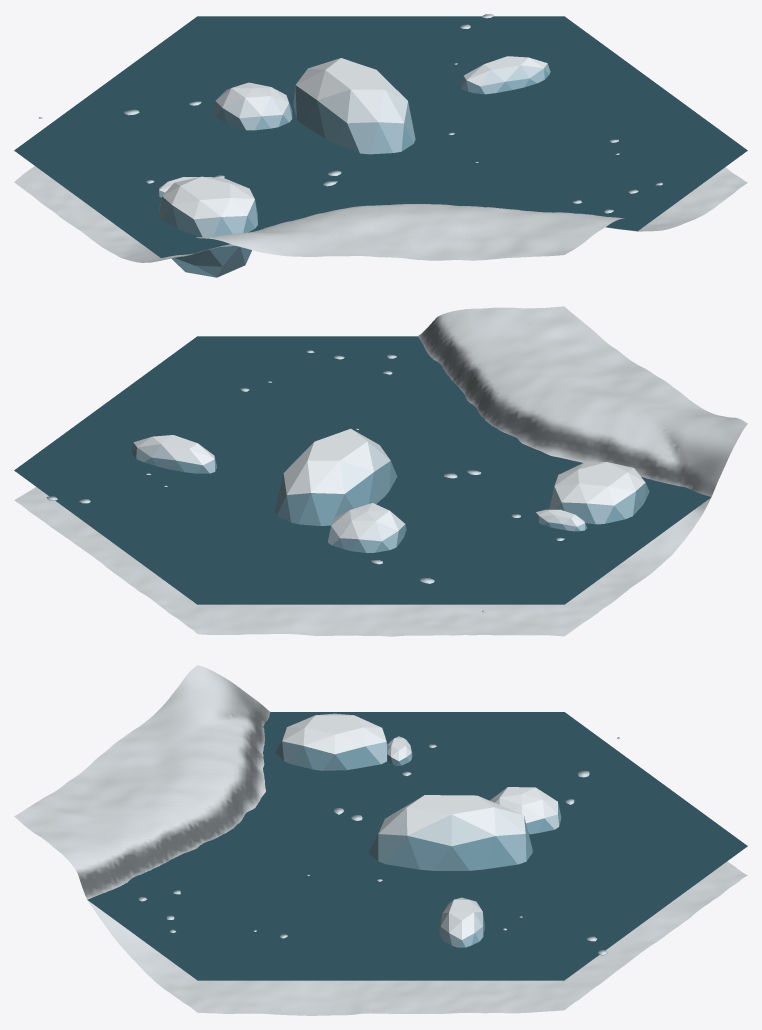
3 renders of one model, top to bottom at view 1: azimuth 30°, elevation 25°; view 2: azimuth 150°, elevation 25°; view 3: azimuth 270°, elevation 25°, orthographic.
Parts seen in each view (by area): view 1: sea_level_0, terrain_v10, WG_17_berg_00, WG_17_berg_03, WG_17_berg_02, WG_17_berg_01; view 2: sea_level_0, terrain_v10, WG_17_berg_00, WG_17_berg_03, WG_17_berg_02, WG_17_berg_01, WG_17_berg_04; view 3: sea_level_0, terrain_v10, WG_17_berg_00, WG_17_berg_03, WG_17_berg_02, WG_17_berg_01, WG_17_berg_04.
Boxes of the visible parts, x1,y1,x2,y2 form: sea_level_0: (14,16,747,257); terrain_v10: (14,166,747,262); WG_17_berg_00: (293,58,415,154); WG_17_berg_03: (158,176,257,277); WG_17_berg_02: (213,82,292,130); WG_17_berg_01: (460,56,550,94); sea_level_0: (14,336,710,604); terrain_v10: (14,306,747,636); WG_17_berg_00: (275,428,397,526); WG_17_berg_03: (549,462,649,524); WG_17_berg_02: (328,503,406,552); WG_17_berg_01: (131,435,216,473); WG_17_berg_04: (535,509,586,531); sea_level_0: (87,712,747,980); terrain_v10: (14,665,747,1015); WG_17_berg_00: (368,795,532,870); WG_17_berg_03: (275,713,388,770); WG_17_berg_02: (490,787,561,834); WG_17_berg_01: (438,897,484,947); WG_17_berg_04: (387,736,412,765).
Size of the model in its own units: 4330 by 1033 by 5000.
30 materials, 1 textured.
